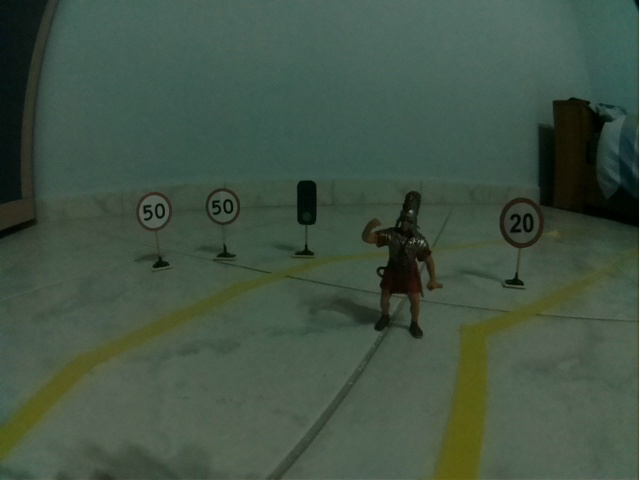Green Traffic Light: (296, 180, 317, 226)
Person: (361, 190, 444, 339)
Speed Limit 20: (499, 197, 544, 249)
Speed Limit 50: (136, 192, 173, 232), (205, 188, 240, 225)
